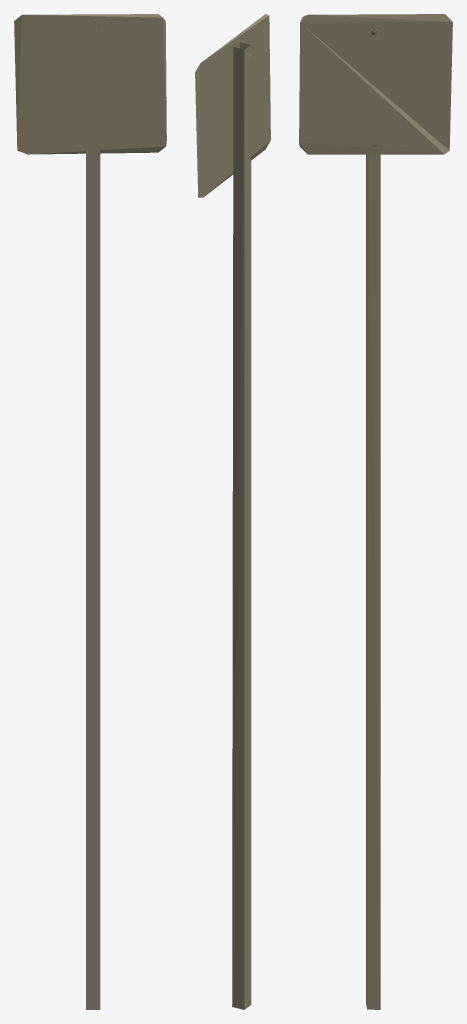
The model's file is sign-camping.lod2.glb.
3 renders of one model, left to right at view 1: azimuth 90°, elevation 25°; view 2: azimuth 150°, elevation 25°; view 3: azimuth 270°, elevation 25°, orthographic. The views are drawn at different scales.
Parts seen in each view (by area): view 1: kenping_LOW_POLY_sign_0; view 2: kenping_LOW_POLY_sign_0; view 3: kenping_LOW_POLY_sign_0.
Part boxes in pixels (x1,y1,x2,y2): kenping_LOW_POLY_sign_0: (14, 14, 166, 1009); kenping_LOW_POLY_sign_0: (195, 14, 270, 1009); kenping_LOW_POLY_sign_0: (299, 14, 452, 1009).
Size of the model in its own units: 0.0555 by 2.6 by 0.3637.
